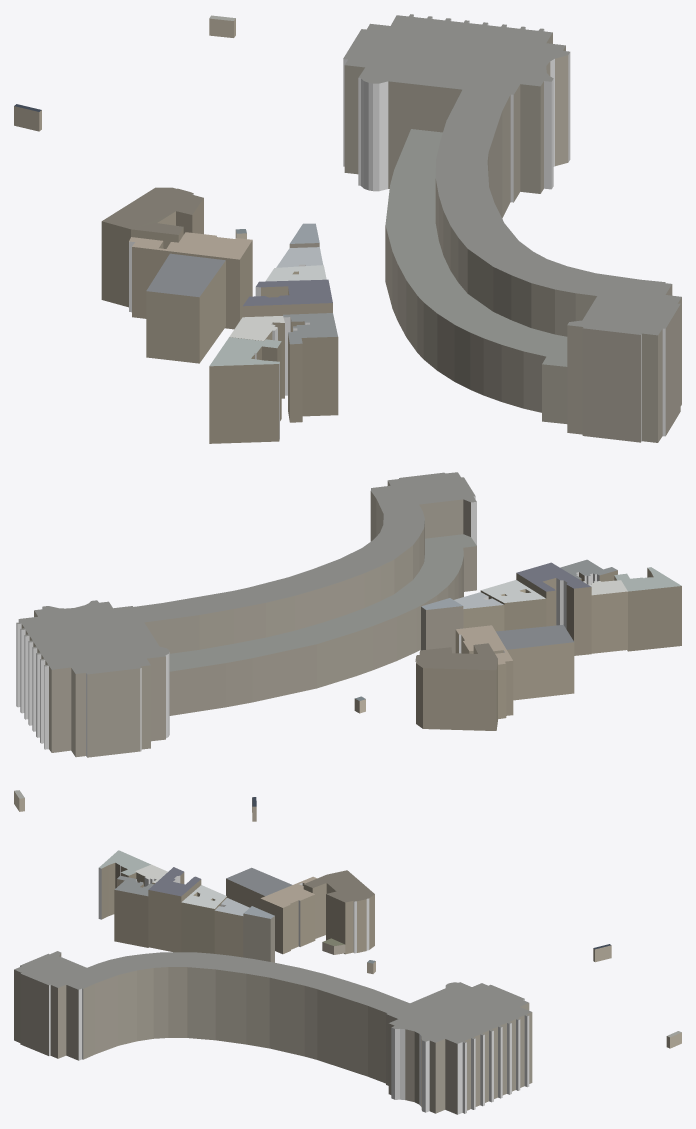
3 renders of one model, top to bottom at view 1: azimuth 30°, elevation 25°; view 2: azimuth 150°, elevation 25°; view 3: azimuth 270°, elevation 25°, orthographic. The views are drawn at different scales.
Parts seen in each view (by area): view 1: tuile; view 2: tuile; view 3: tuile.
Part boxes in pixels (bbox=[...]): tuile: bbox=[14, 14, 681, 443]; tuile: bbox=[14, 472, 681, 821]; tuile: bbox=[14, 850, 681, 1114].
Size of the model in its own units: 193 by 36.7 by 281.
